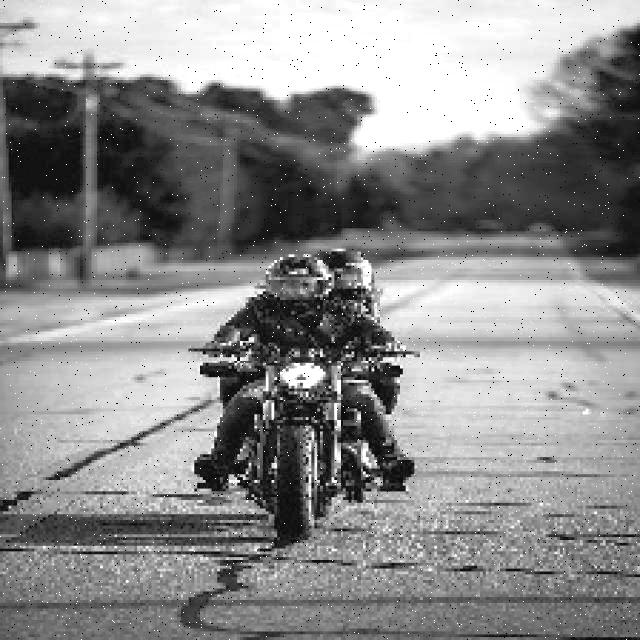Bike: (250, 331, 362, 535)
